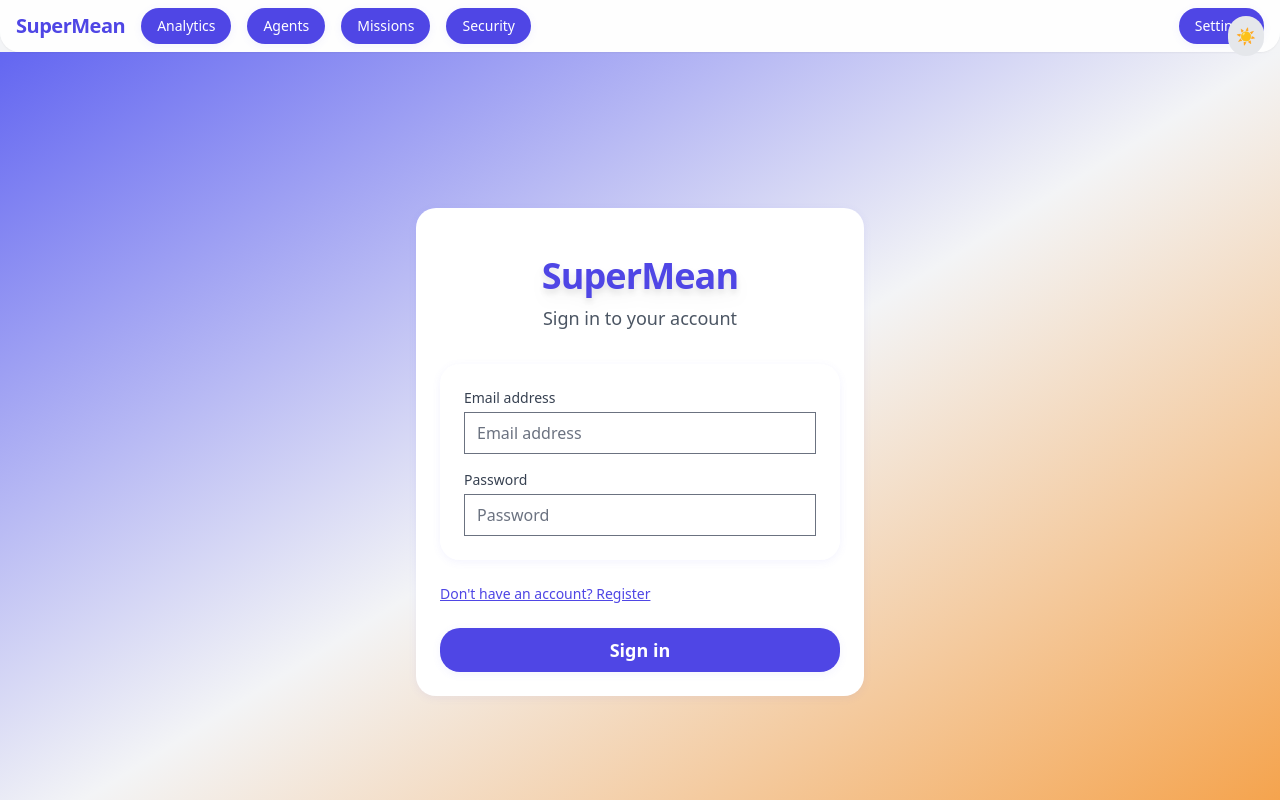
Test: Authentication Flow › should navigate to register page
Click the link "Don't have an account? Register".
click(546, 594)  # box [440,584,651,603]
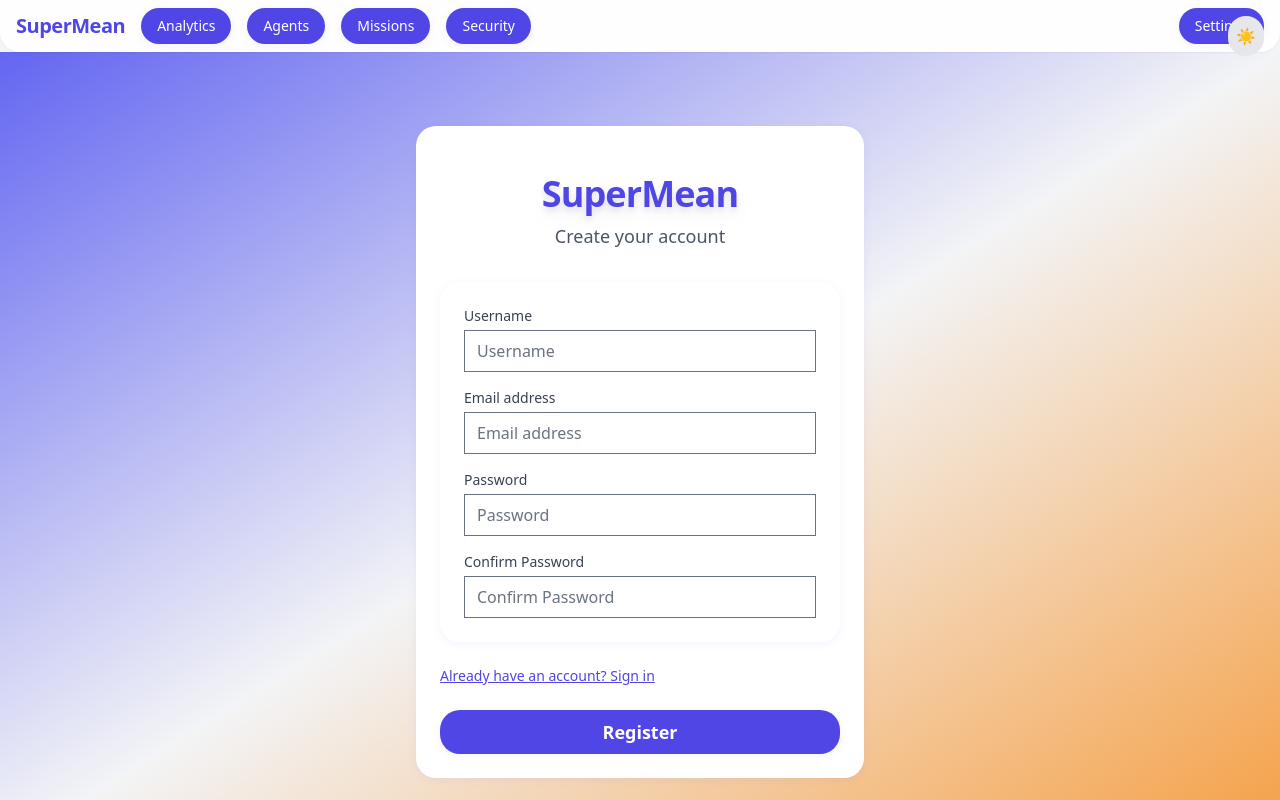
Check: the text "Create your account" is shown, box [555,222,725,250]
Check: the field named "username" is shown, box [464,330,816,372]
Check: the password field named "confirm-password" is shown, box [464,576,816,618]
